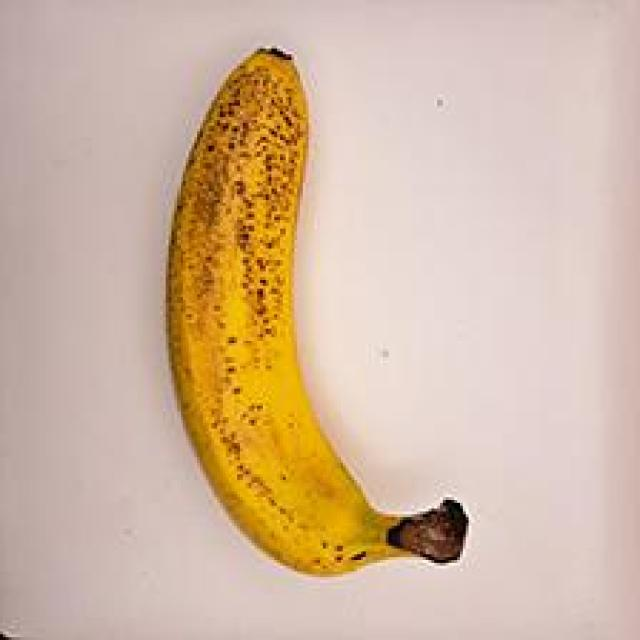Overripe: (149, 34, 495, 592)
